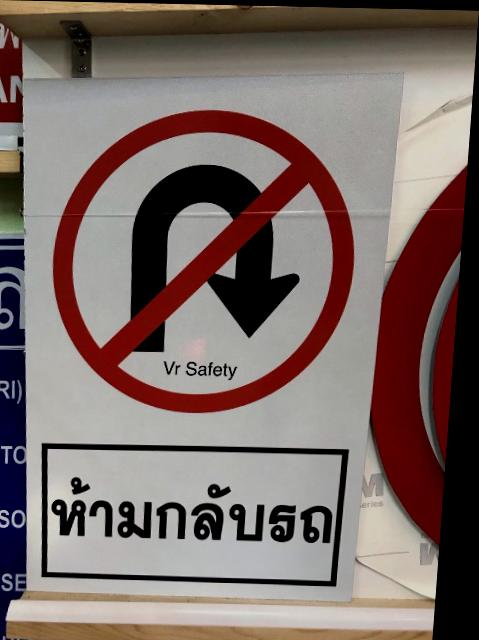not_u_turn_right: (36, 104, 370, 420)
